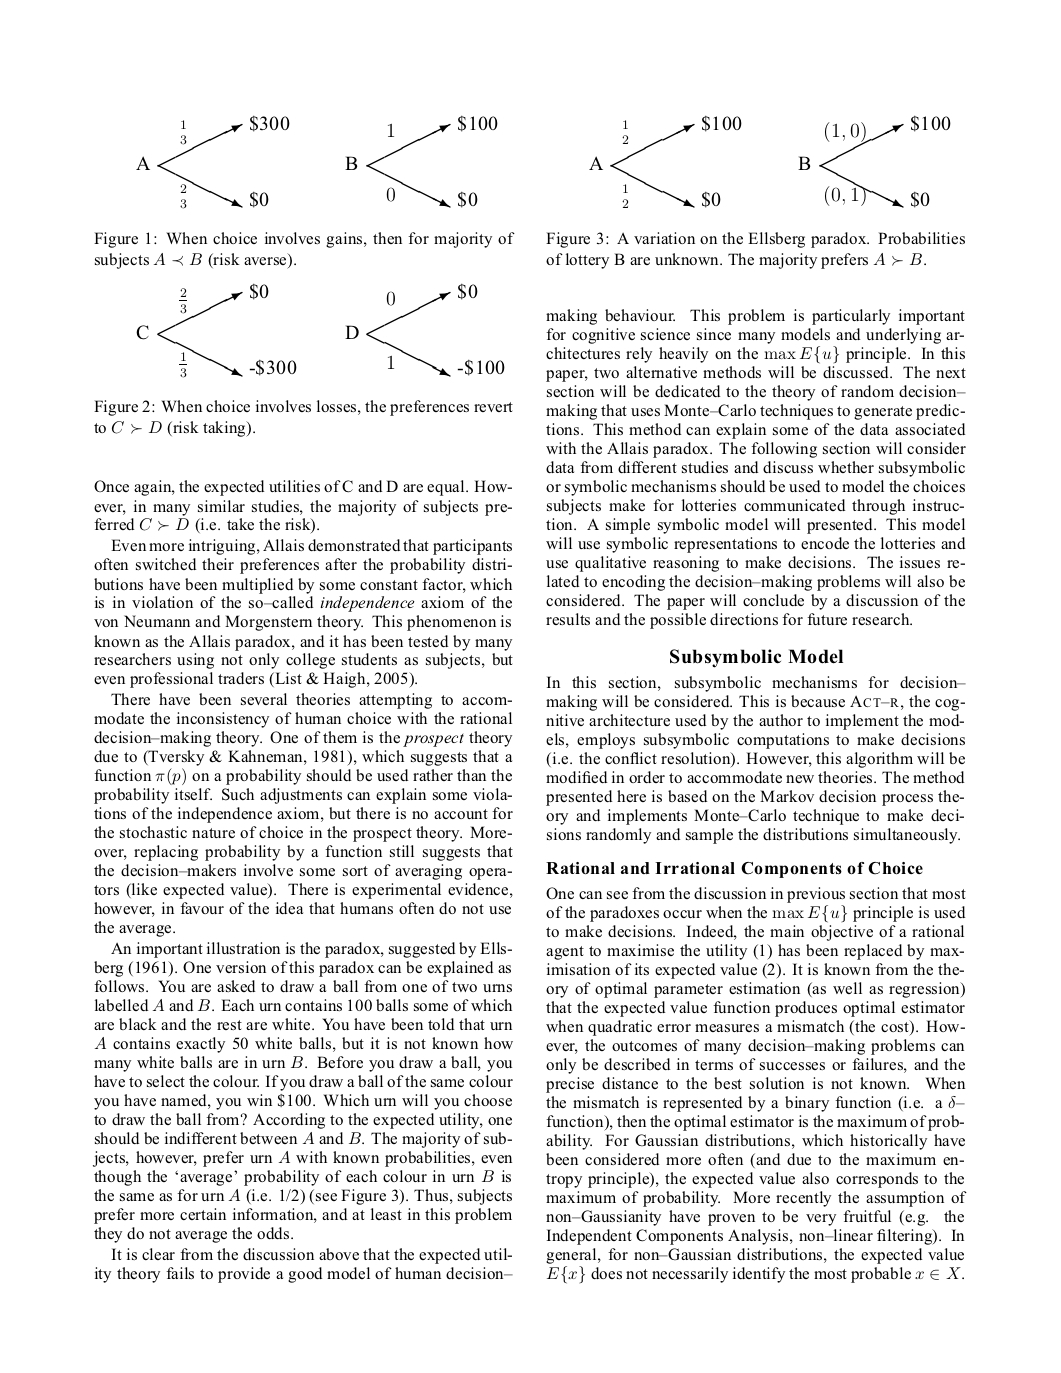figure: (136, 283, 296, 377), (345, 283, 504, 376), (136, 115, 289, 208), (588, 115, 741, 207), (345, 115, 497, 207), (798, 115, 950, 207)
